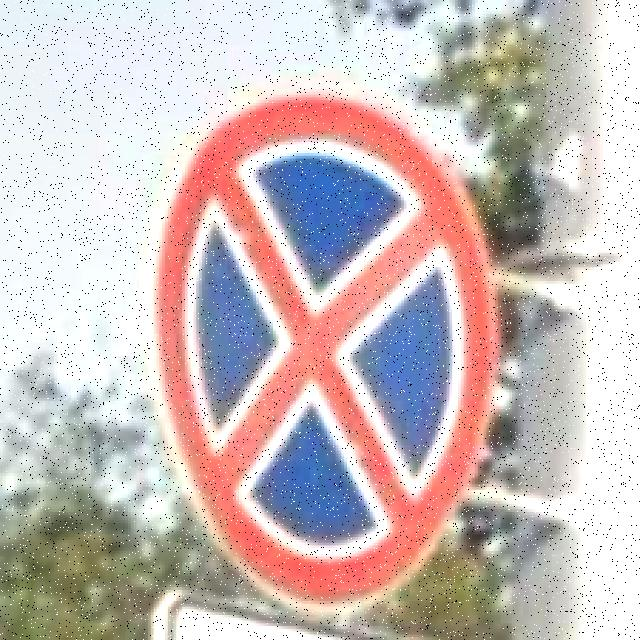Zakaz zatrzymywania sie: (136, 83, 498, 618)
